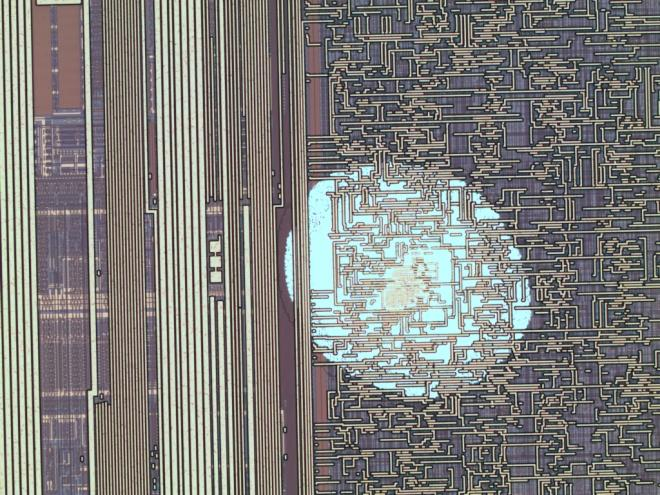BLOCK ETCH: (282, 151, 541, 409)
